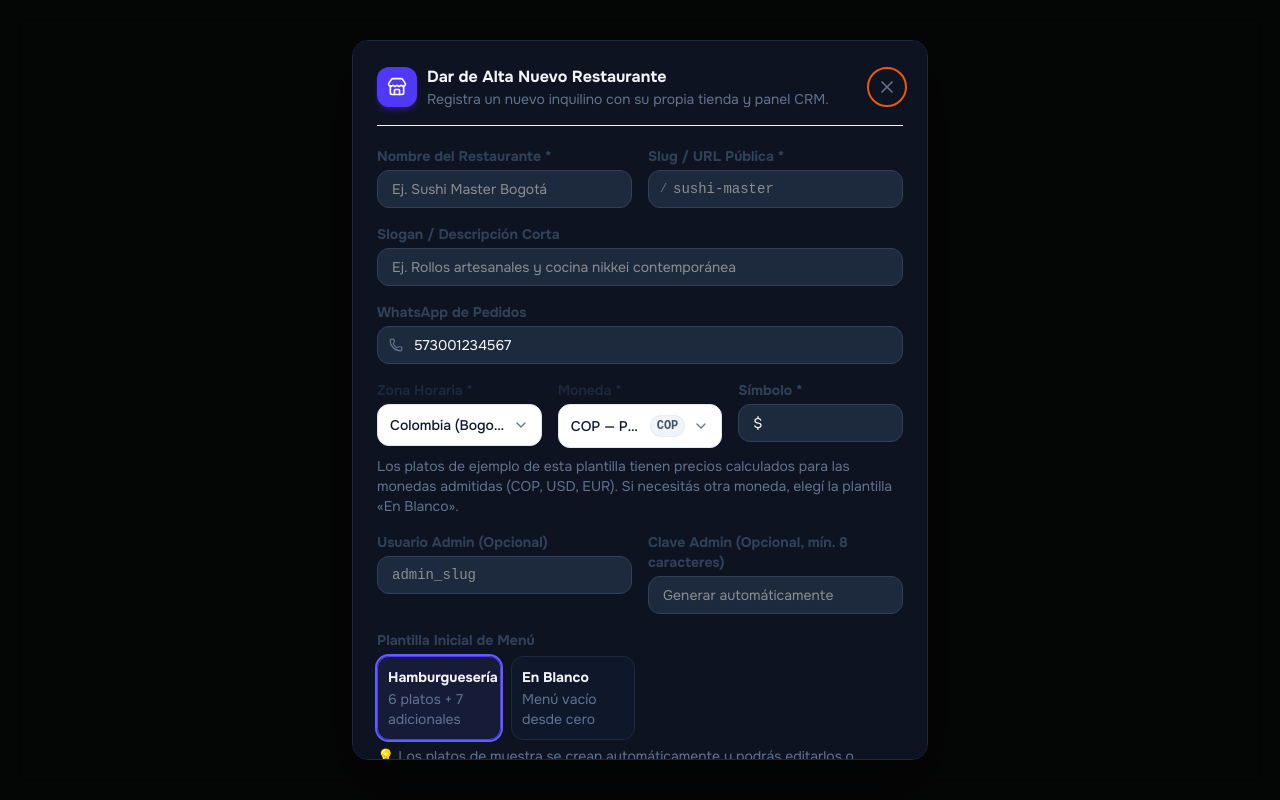
CreateRestaurantModal (TDD) › restricts currency select to supportedCurrencies when a template with sample dishes is selected and displays explanation
expect the text "Hamburguesería" is shown: met, box x1=388 y1=667 x2=490 y2=687
expect the text "Los platos de ejemplo de esta plantilla tienen precios calculados para las monedas admitidas" is shown: met, box x1=377 y1=457 x2=850 y2=495
// Switch to blank template
Click the text "En Blanco".
click(555, 677)  # box x1=522 y1=668 x2=589 y2=686
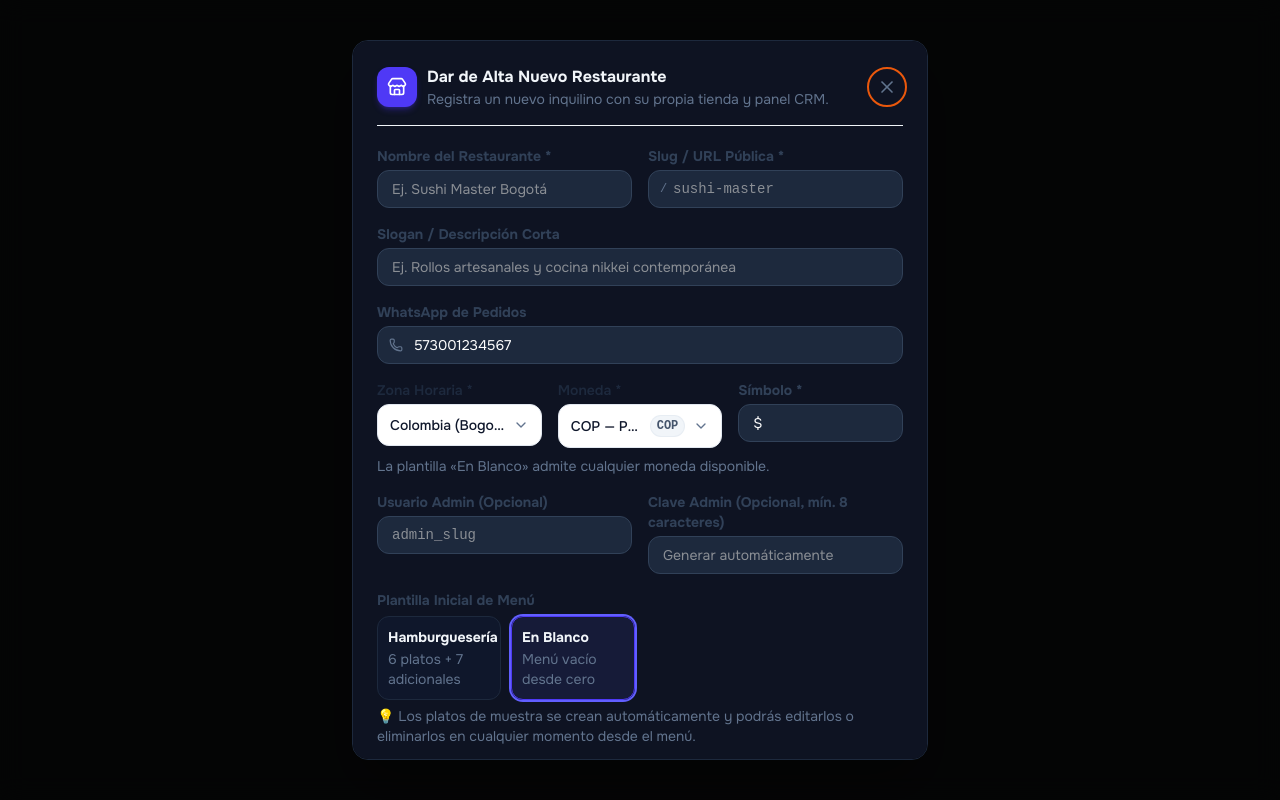
expect the text "La plantilla «En Blanco» admite cualquier moneda disponible." is shown: met, box x1=377 y1=457 x2=770 y2=475
